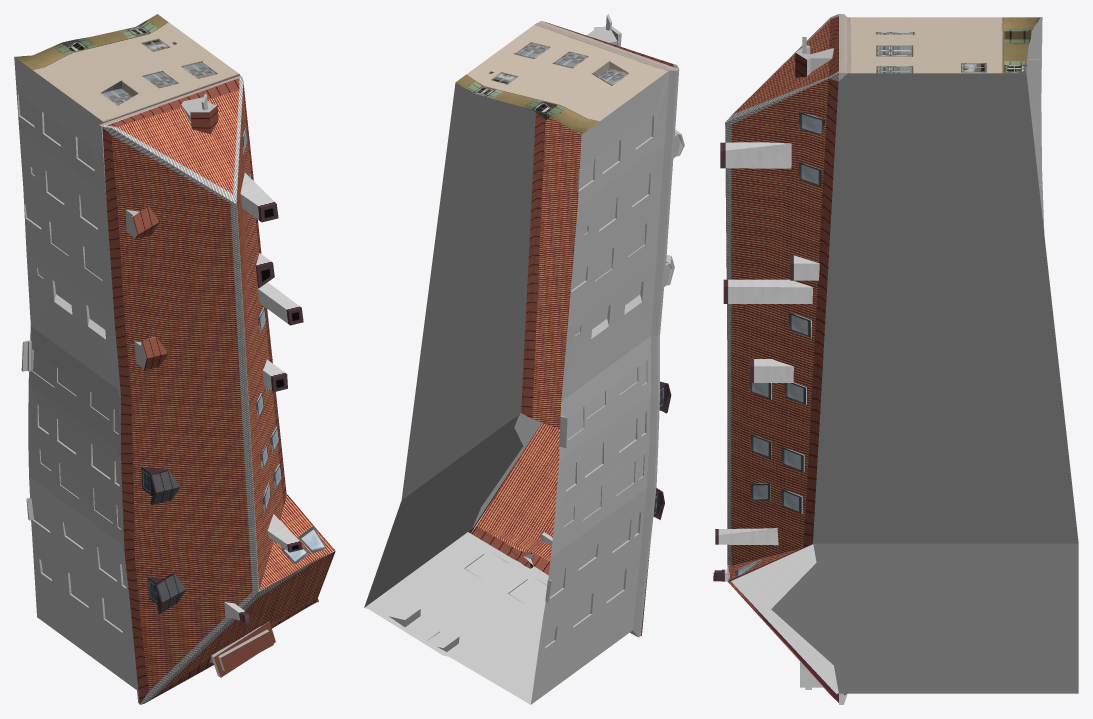
File: Lossi_plats_3-origo.obj
3 renders of one model, left to right at view 1: azimuth 30°, elevation 25°; view 2: azimuth 150°, elevation 25°; view 3: azimuth 270°, elevation 25°, orthographic. The views are drawn at different scales.
Visible parts, largest first — view 1: Lossi_plats_3; view 2: Lossi_plats_3; view 3: Lossi_plats_3.
Boxes of the visible parts, x1,y1,x2,y2 form: Lossi_plats_3: [14, 14, 335, 704]; Lossi_plats_3: [364, 14, 684, 704]; Lossi_plats_3: [713, 14, 1078, 704].
Size of the model in its own units: 15.31 by 41 by 20.44.
